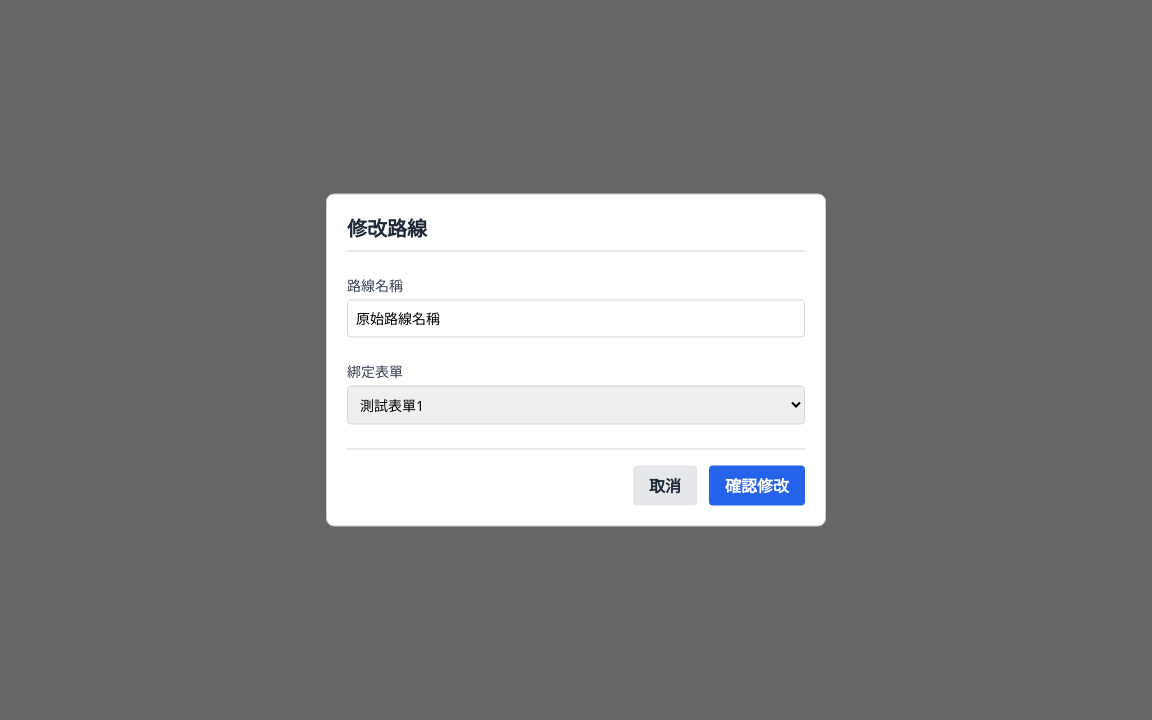
Test: CreateRouteModal Component › 編輯路線功能 › 應該能夠成功編輯路線
The image size is (1152, 720).
 修改路線名稱 
Replace the text in the field labelled "路線名稱" with "修改後的路線名稱": (576, 318) [347, 300, 805, 338]
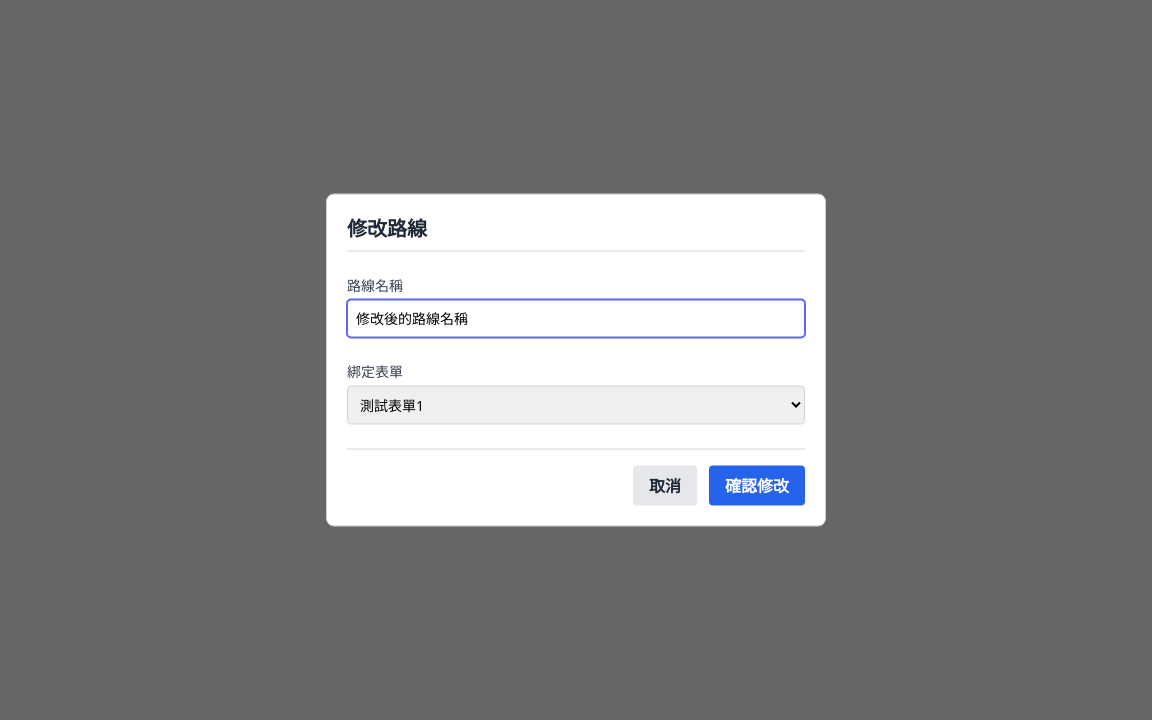
 修改綁定表單 
Select "測試表單2" in the dropdown labelled "綁定表單": (576, 405) [347, 386, 805, 424]
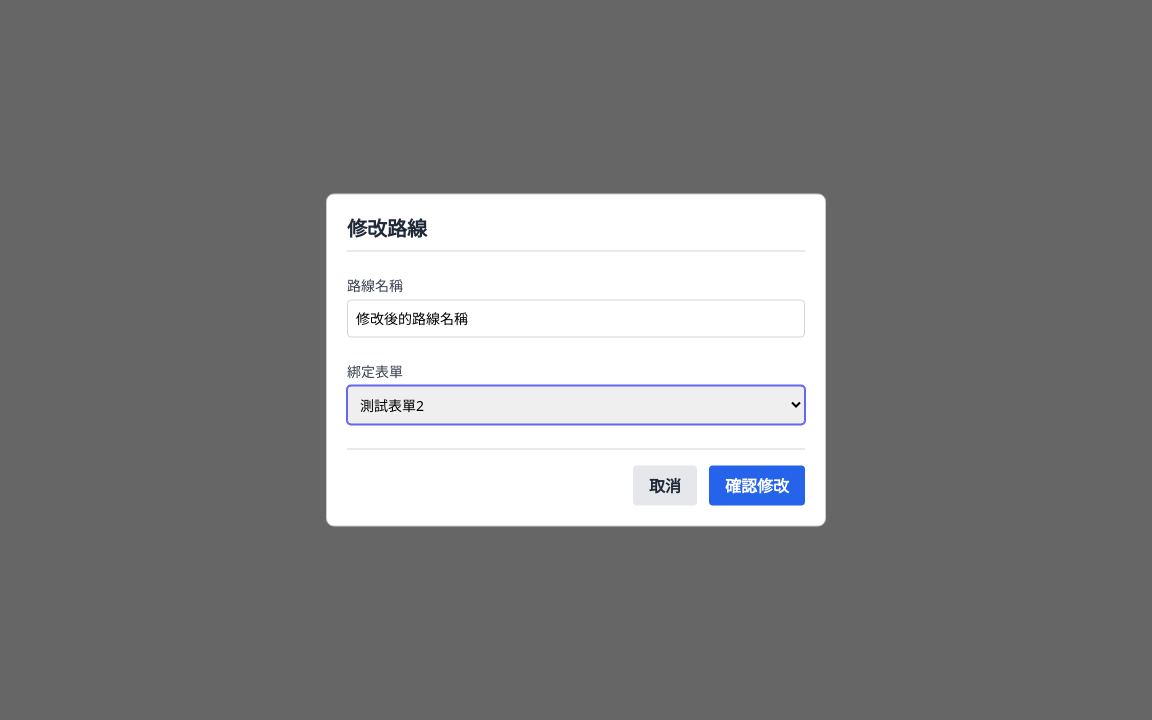
Click the button "確認修改": (757, 486) [709, 466, 805, 506]
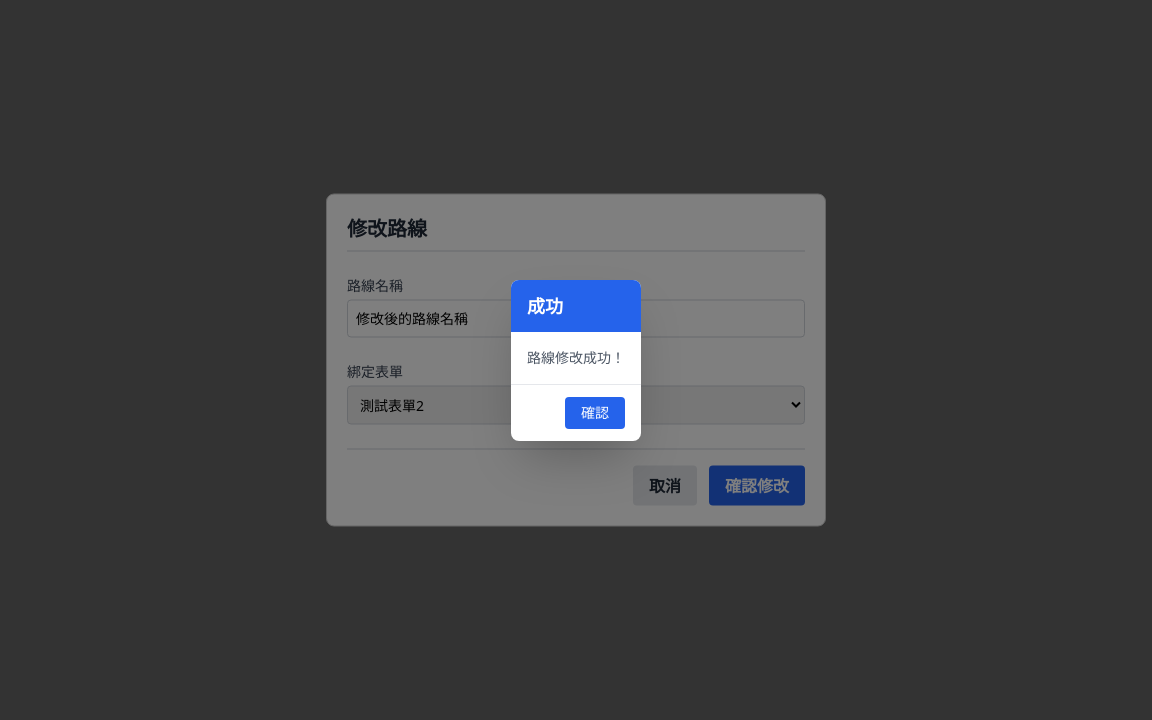
Expected: the text "路線修改成功！" is shown, [527, 348, 625, 368]
